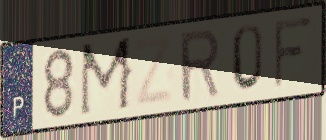0: (229, 23, 264, 95)
8: (40, 46, 78, 122)
F: (272, 14, 314, 93)
M: (77, 34, 135, 121)
R: (177, 25, 222, 106)
Z: (131, 32, 175, 109)
